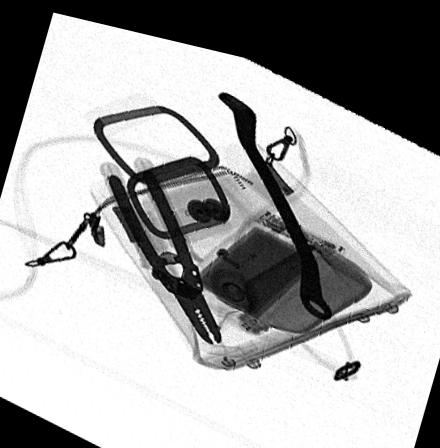Pliers: (106, 163, 222, 335)
Powerbank: (185, 193, 344, 307)
Wrench: (216, 81, 332, 304)
